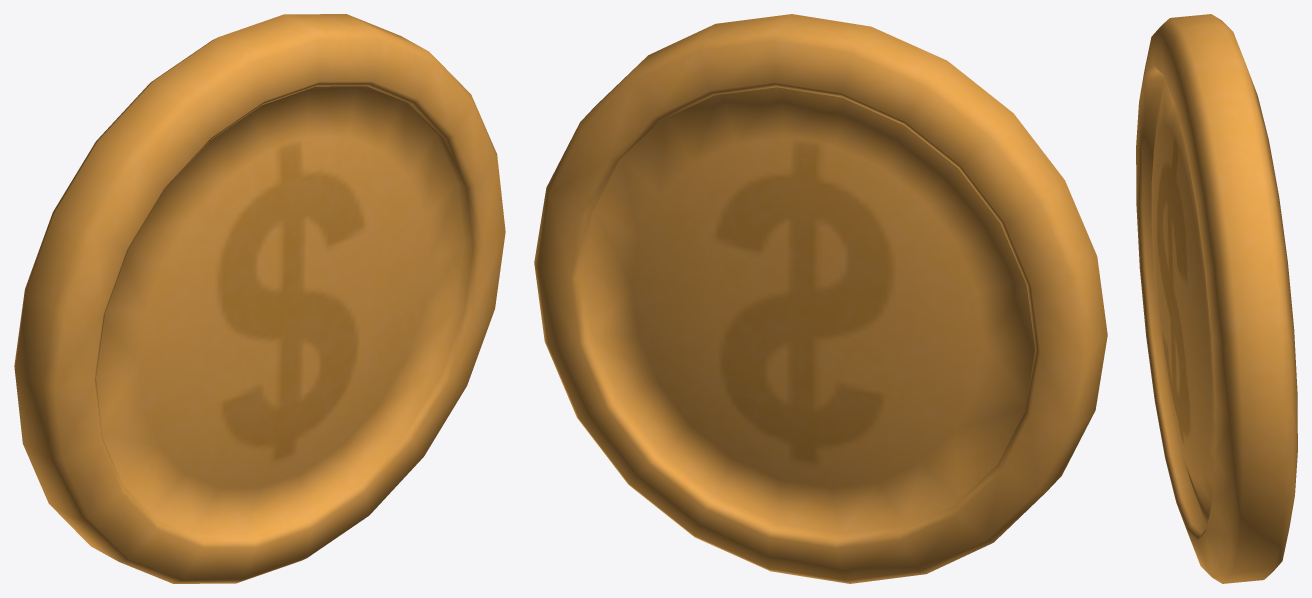
Rendered from Coin.glb.
The picture shows the model from 3 angles, left to right: view 1: azimuth 30°, elevation 25°; view 2: azimuth 150°, elevation 25°; view 3: azimuth 270°, elevation 25°; orthographic projection. The views are drawn at different scales.
Visible parts, largest first — view 1: Cylinder.001_Cylinder.021; view 2: Cylinder.001_Cylinder.021; view 3: Cylinder.001_Cylinder.021.
Part boxes in pixels (left/top/right/bottom): Cylinder.001_Cylinder.021: left=14, top=14, right=505, bottom=583; Cylinder.001_Cylinder.021: left=534, top=14, right=1107, bottom=583; Cylinder.001_Cylinder.021: left=1136, top=14, right=1297, bottom=583.
Bounding box in the file's own units: 1.02 × 1.02 × 0.2915.
Materials: 1 (1 with a texture image).
